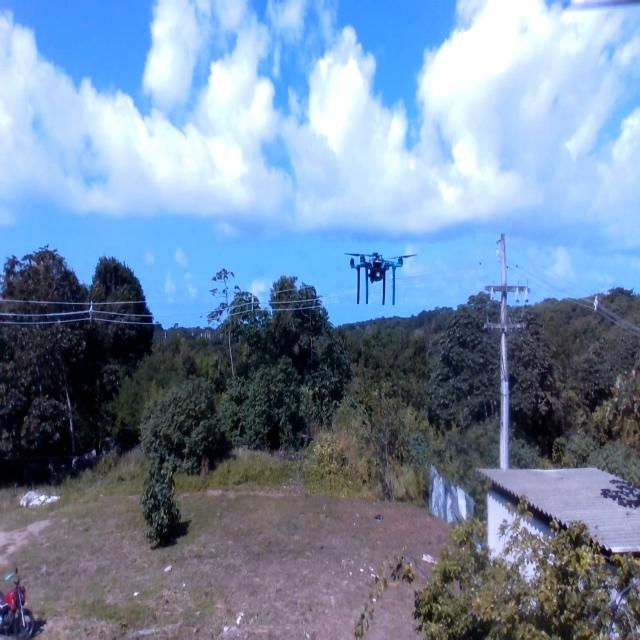-uav-: (342, 234, 418, 316)
